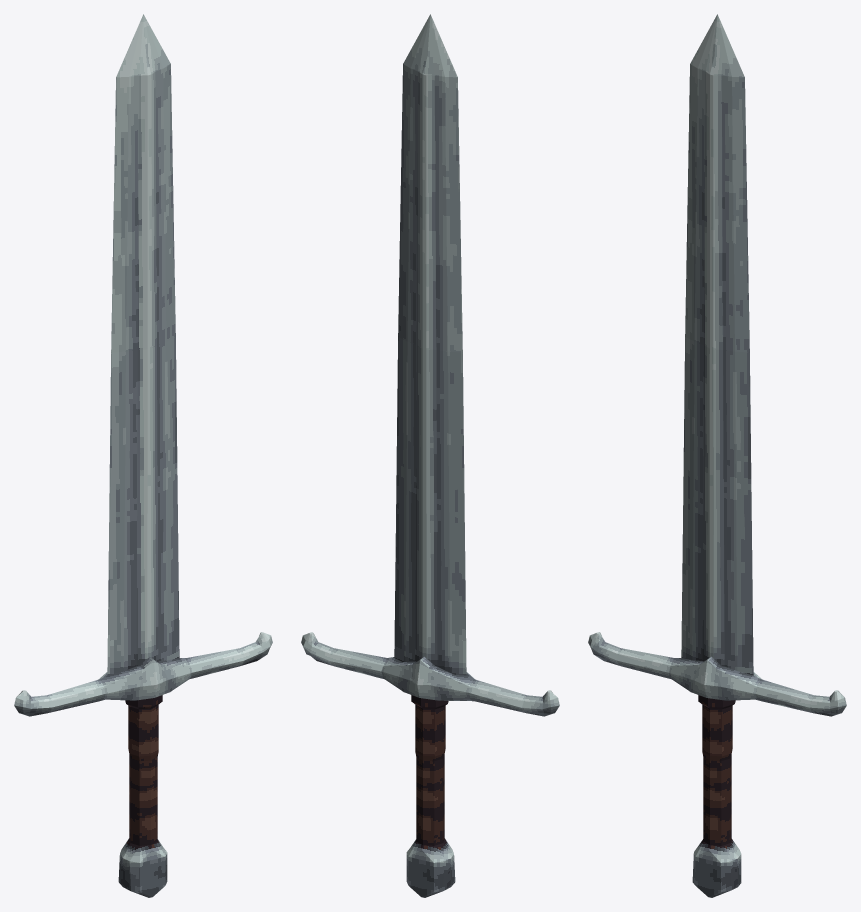
The model's file is steel_sword.glb.
3 views of the same model, side by side, from view 1: azimuth 30°, elevation 25°; view 2: azimuth 150°, elevation 25°; view 3: azimuth 330°, elevation 25° (orthographic).
Visible parts, largest first — view 1: steel_sword; view 2: steel_sword; view 3: steel_sword.
Boxes of the visible parts, x1,y1,x2,y2 form: steel_sword: [14, 14, 272, 897]; steel_sword: [301, 14, 559, 897]; steel_sword: [588, 14, 846, 897].
Bounding box in the file's own units: 0.4969 × 1.61 × 0.0872.
Materials: 1 (1 with a texture image).
